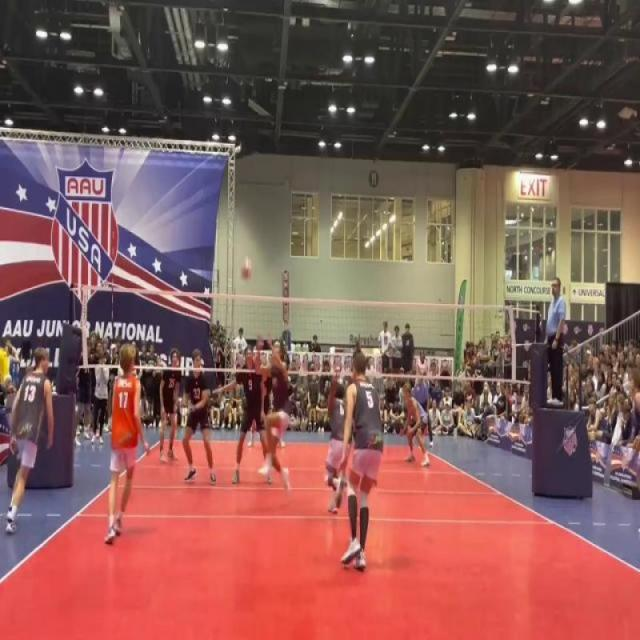volleyball: (240, 258, 255, 282)
